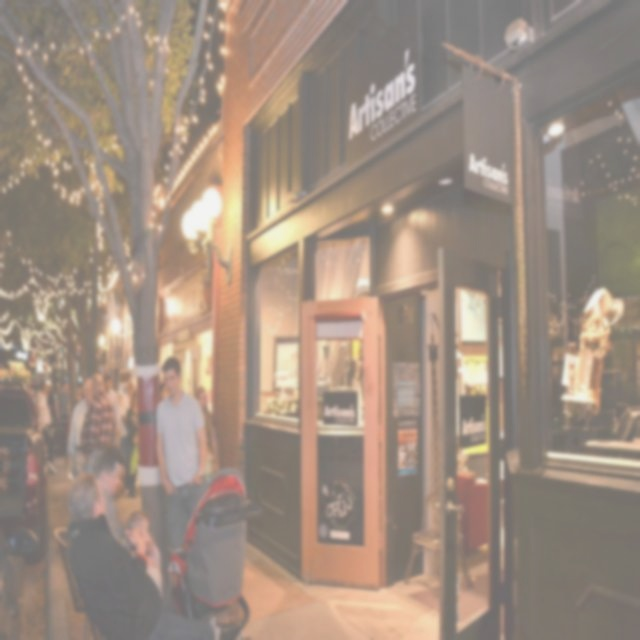pessoa: (61, 468, 202, 639), (90, 444, 165, 598), (154, 355, 210, 554), (79, 372, 116, 476), (66, 377, 94, 475), (121, 509, 162, 574), (194, 384, 218, 480), (35, 377, 55, 472), (124, 388, 141, 498), (336, 345, 362, 407), (118, 376, 137, 456), (102, 374, 120, 432), (49, 377, 70, 424), (159, 380, 170, 400)
